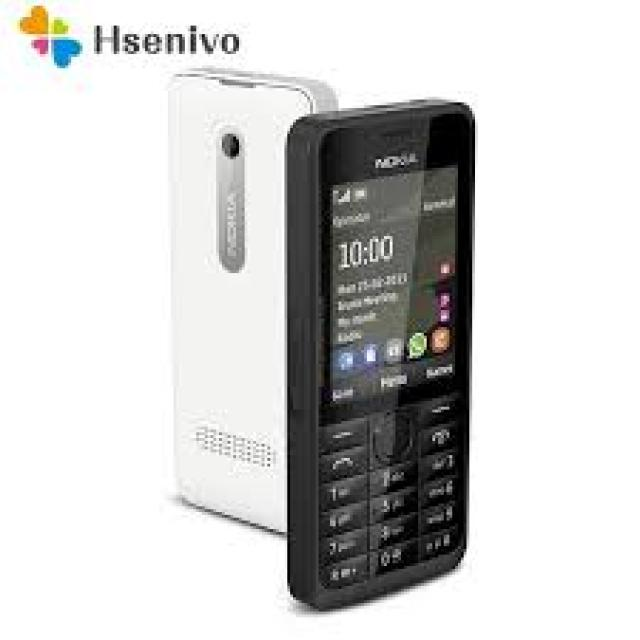mobile phone: (282, 94, 475, 611), (165, 65, 336, 535)
